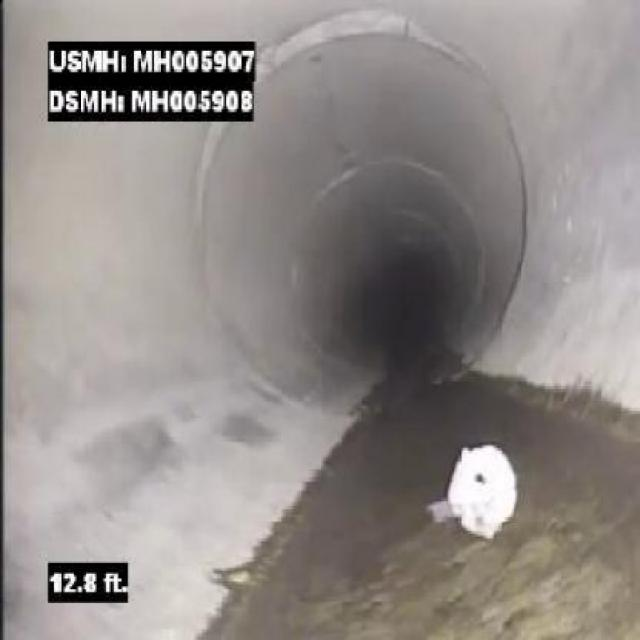Joint offset: (258, 0, 473, 75)
